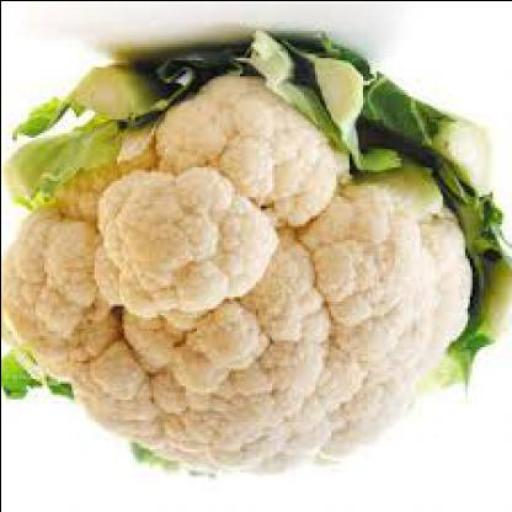biodegradable: (2, 32, 511, 484)
